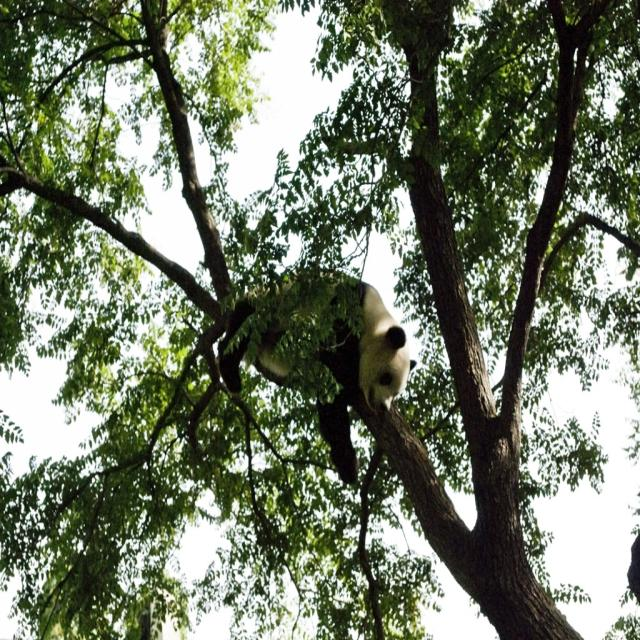panda: (219, 270, 417, 410)
